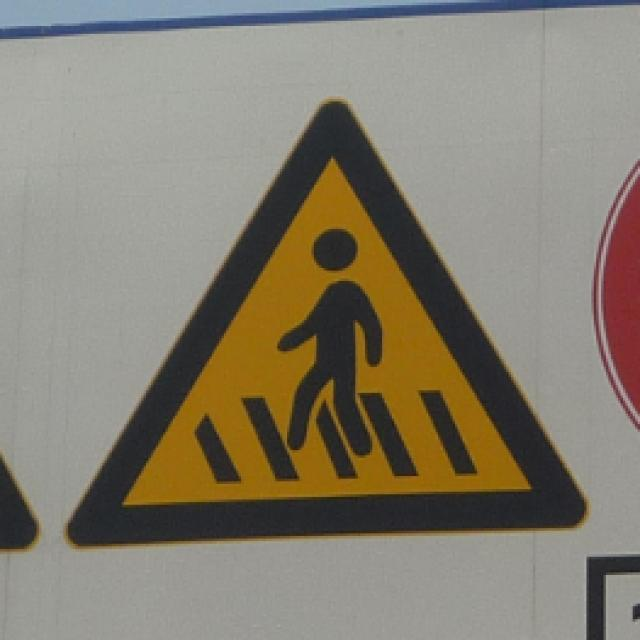Crossing: (78, 98, 608, 538)
